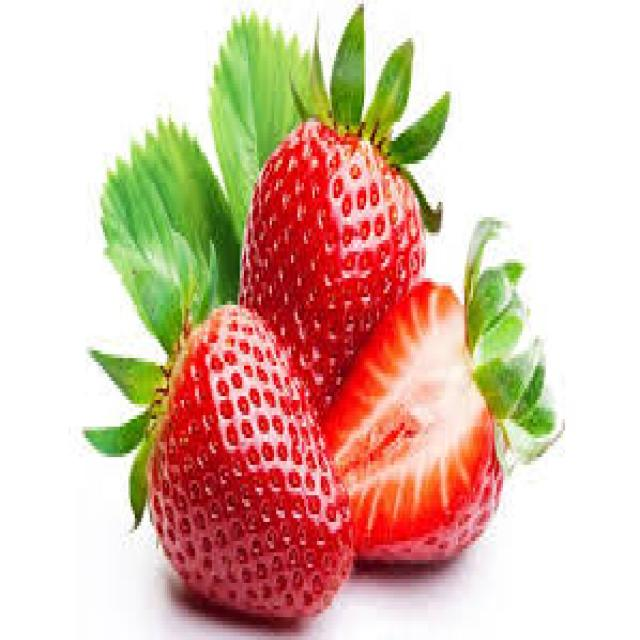strawberry: (141, 335, 304, 624), (401, 282, 531, 563), (244, 124, 431, 290)
